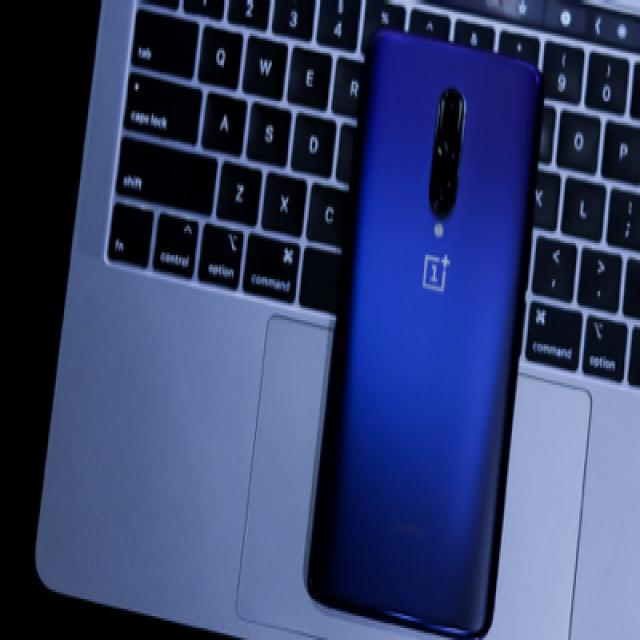cellphone: (304, 24, 542, 638)
